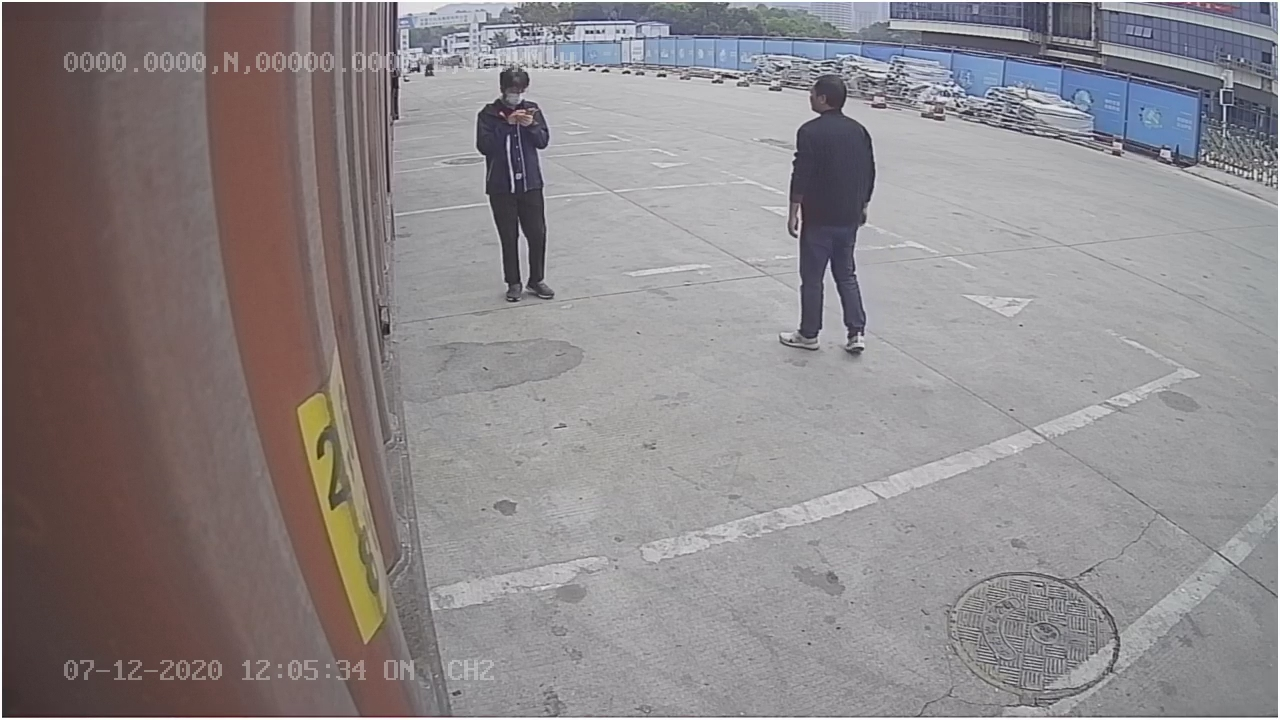person: (780, 72, 882, 353), (476, 63, 563, 305)
